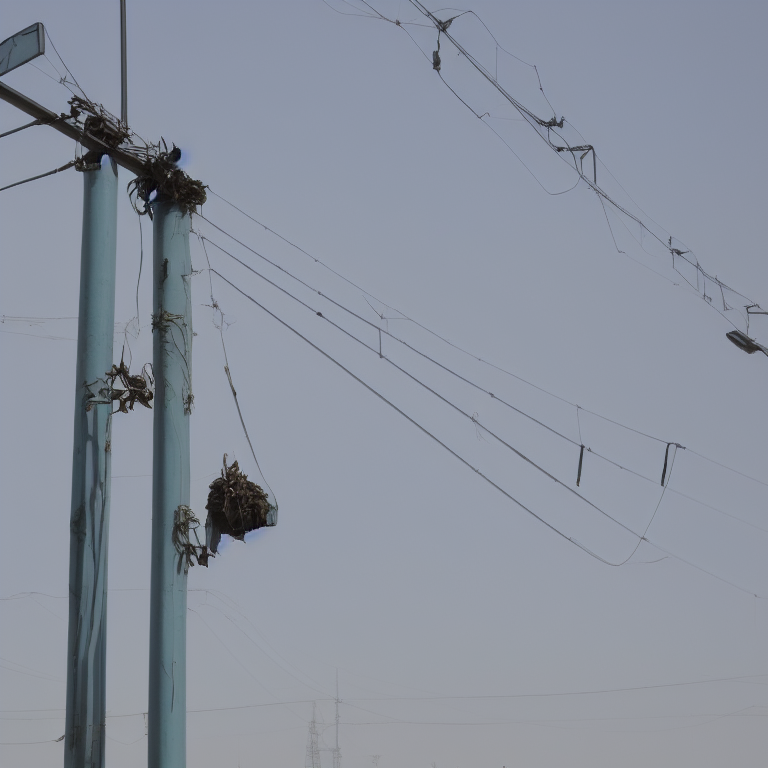nest: (212, 470, 280, 542)
